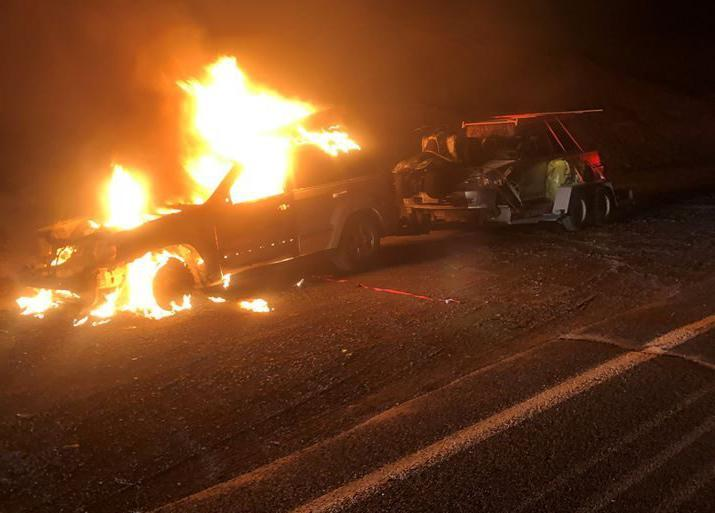Fire: (190, 55, 380, 207), (76, 255, 204, 329), (91, 170, 179, 232), (19, 286, 58, 322), (237, 297, 271, 313), (219, 268, 237, 291)
